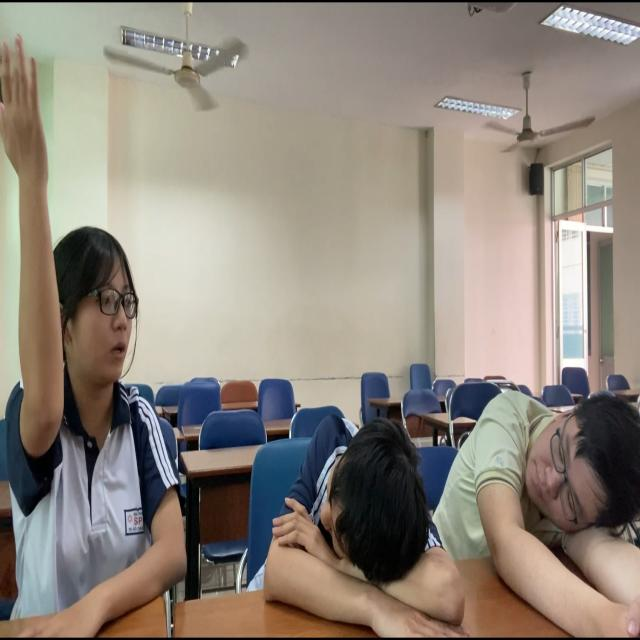raise_hand: (1, 24, 188, 640)
sleep: (261, 409, 459, 640), (458, 378, 640, 587)
